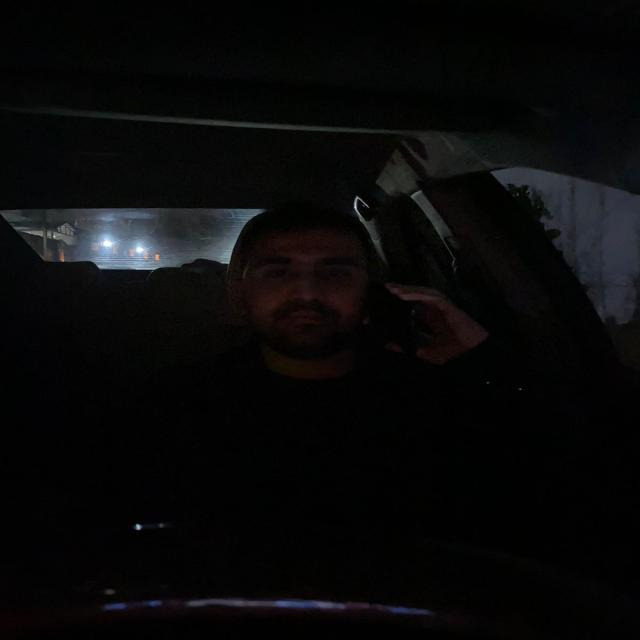phone: (362, 279, 421, 357)
